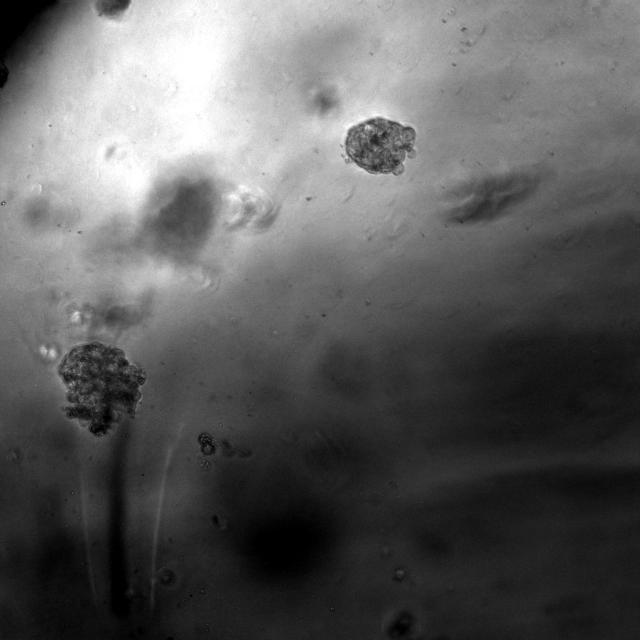organoid: (58, 342, 146, 436), (345, 116, 416, 174), (198, 432, 216, 455)
